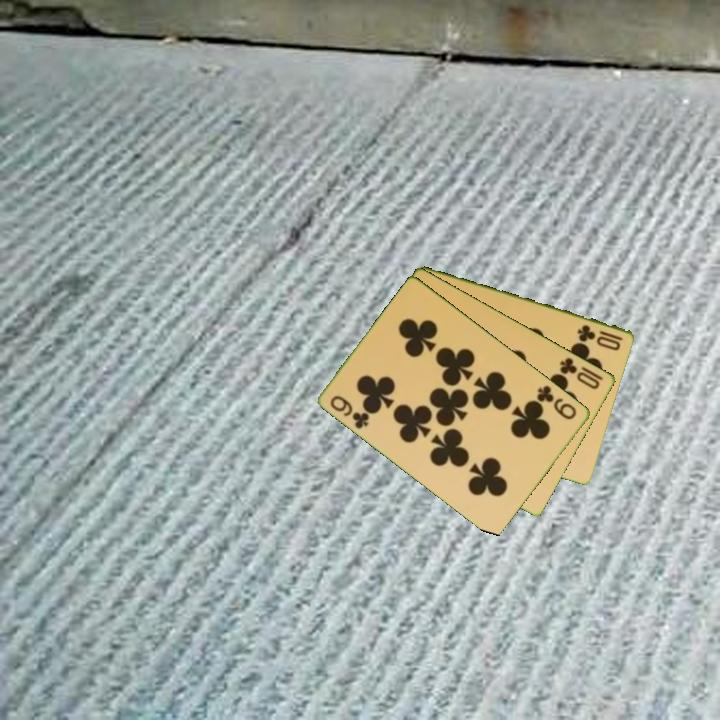10c: (556, 354, 606, 392), (574, 321, 626, 353)
9c: (533, 381, 580, 423), (327, 392, 373, 432)
